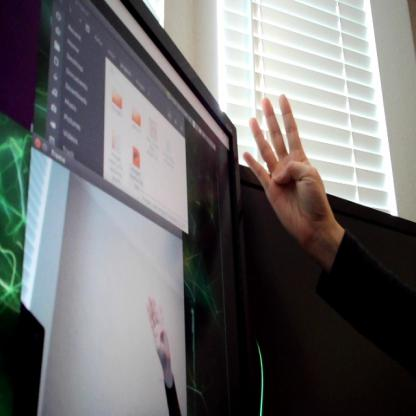four: (239, 95, 341, 238)
